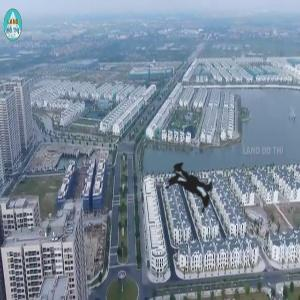drone: (114, 108, 268, 262)
